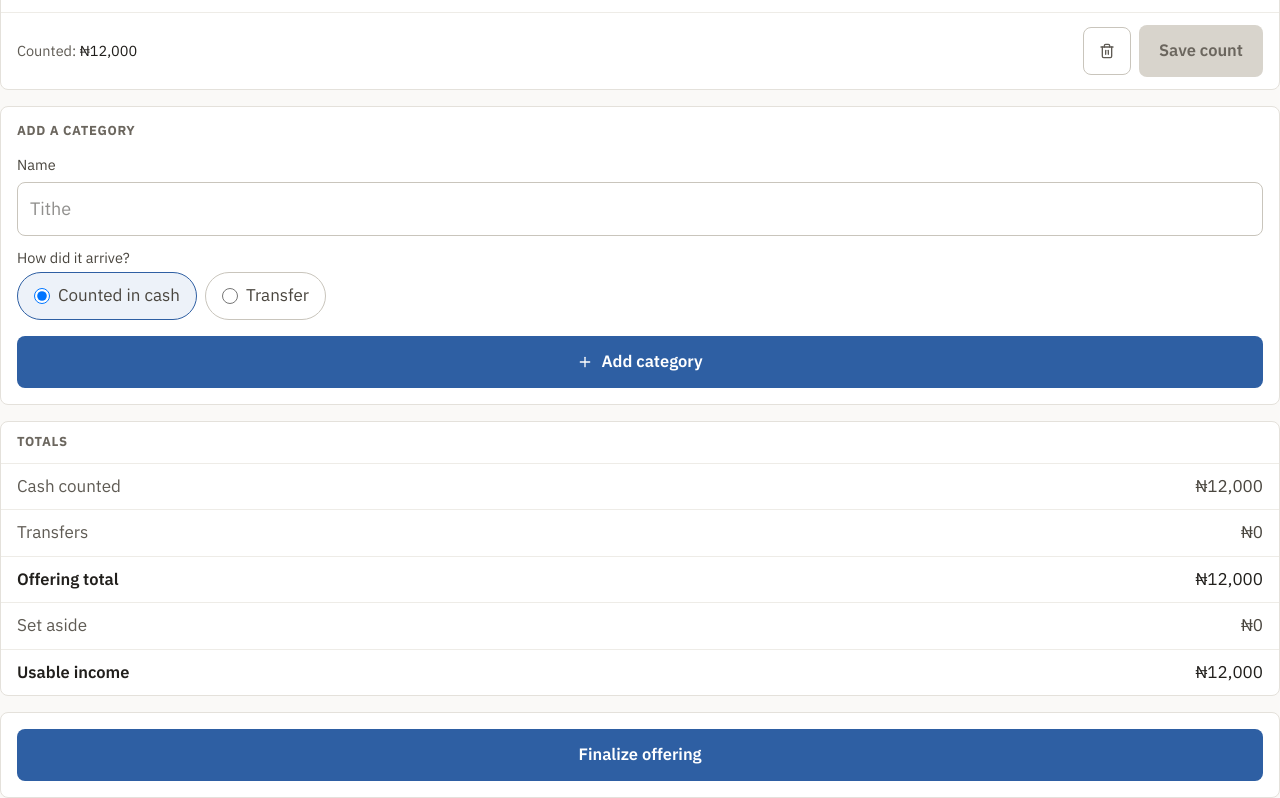
Test: finalizing, once nothing is outstanding › asks first, and says what finalizing does
(page scrolled)
Click the button "Finalize offering" at coordinates (640, 755), box [17,729,1263,781]
(page scrolled)
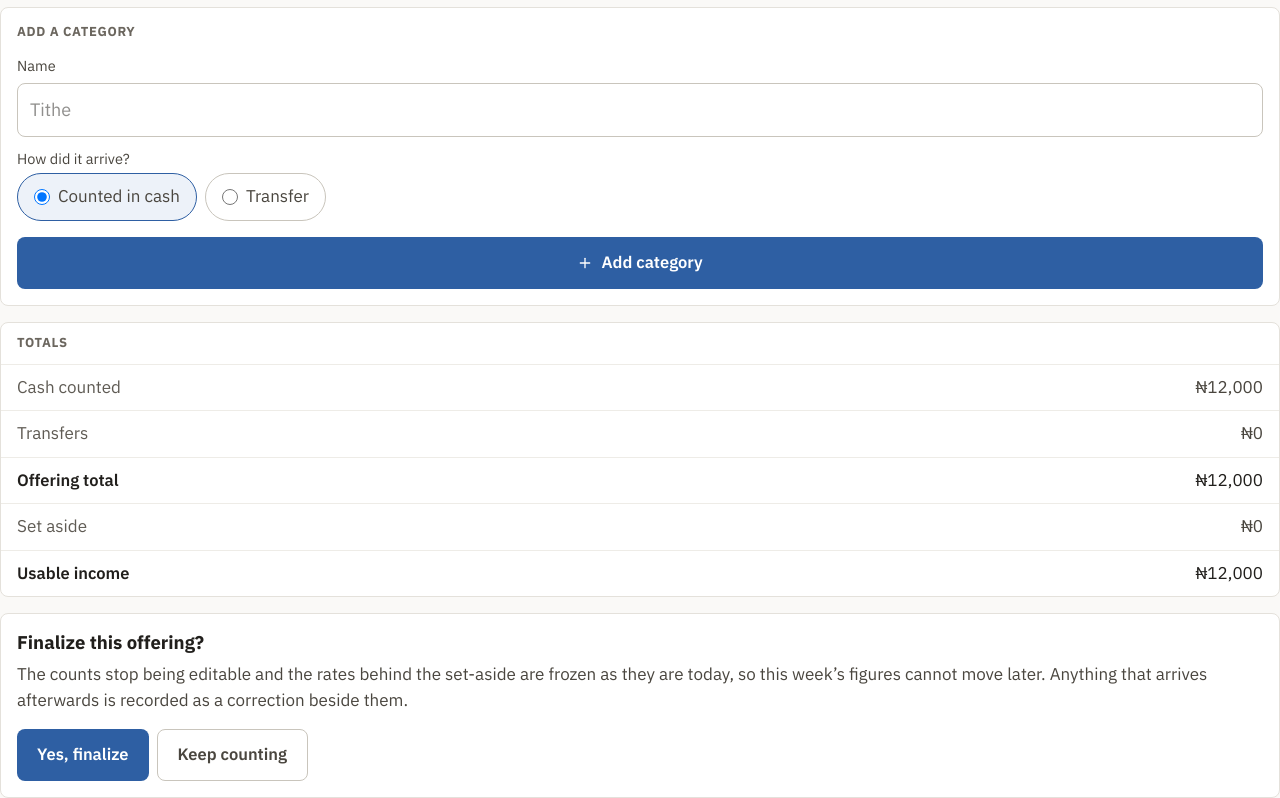
Check: the heading "Finalize this offering?" is shown, box [17,630,204,654]
Check: the element "Finalize this offering" shows "The counts stop being editable", box [17,663,1207,711]
Check: the element "Finalize this offering" shows "recorded as a correction beside them", box [17,663,1207,711]
